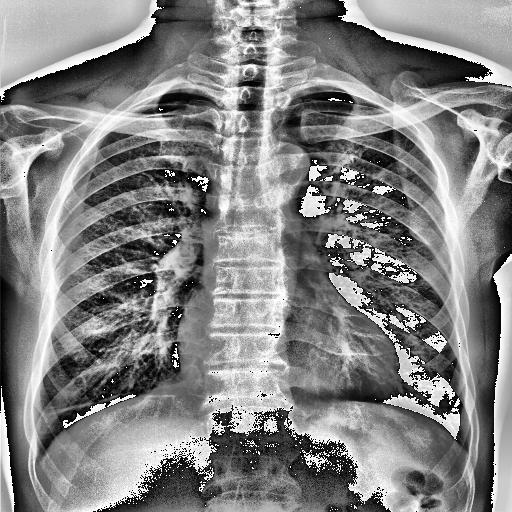13- Pulmonary fibrosis: (43, 390, 135, 418), (46, 394, 172, 414), (48, 392, 136, 414)
